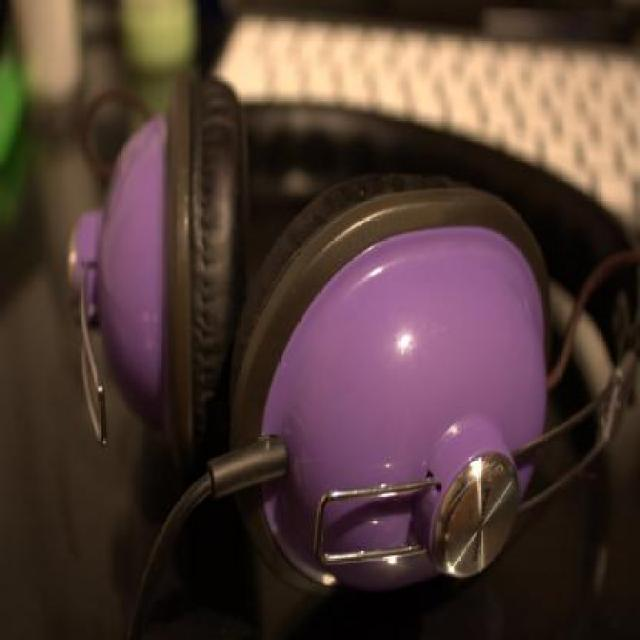earphone: (65, 22, 615, 580)
